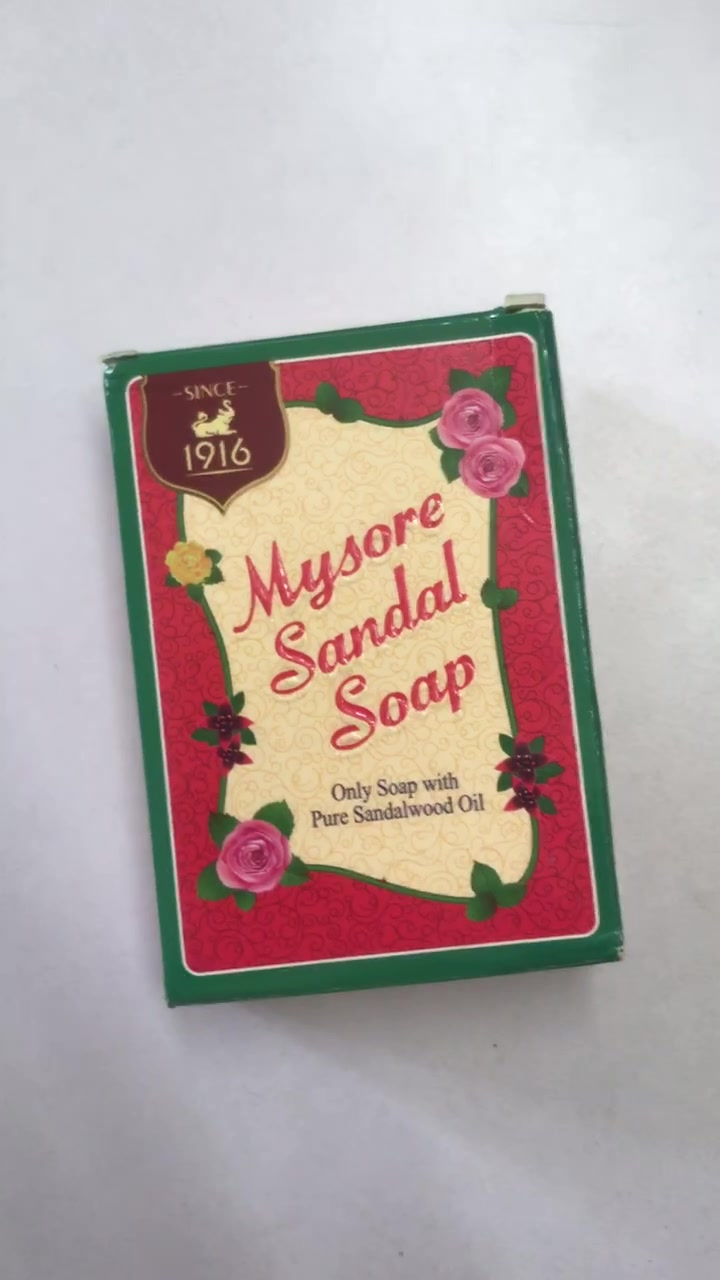mysore sandal soap: (101, 310, 624, 999)
